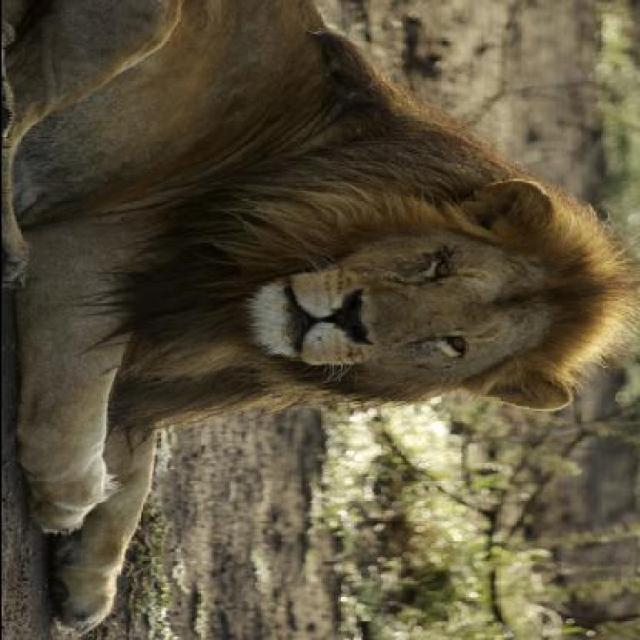Lion: (2, 2, 623, 629)
